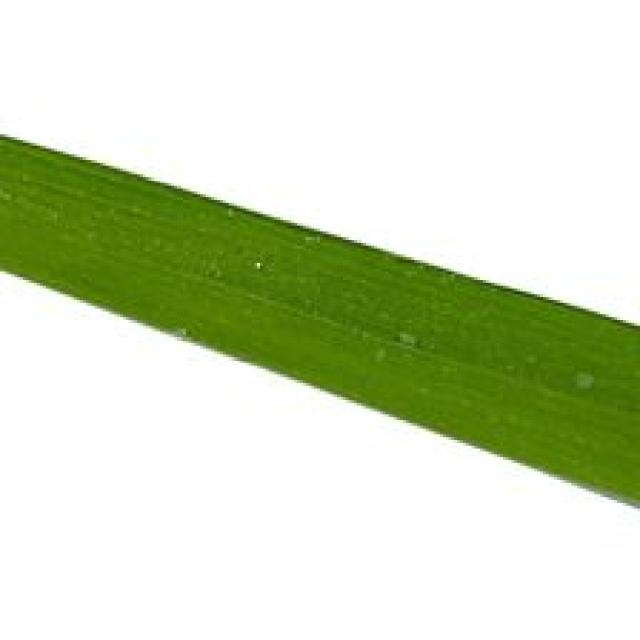Rice___Healthy_Rice_Plant: (0, 130, 637, 511)
